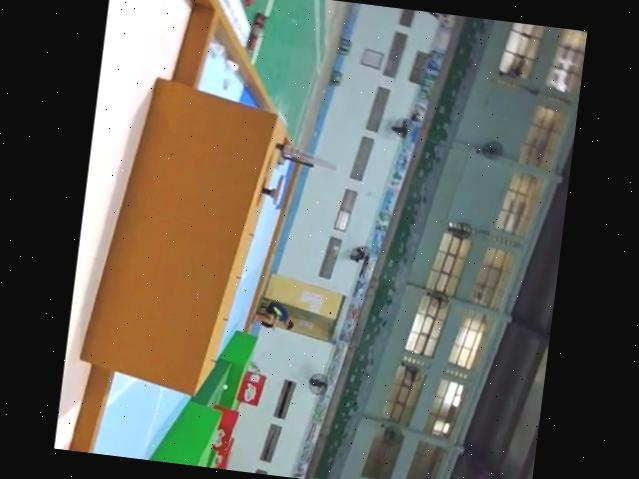Hand: (256, 177, 284, 211)
Sph: (267, 144, 342, 173)
